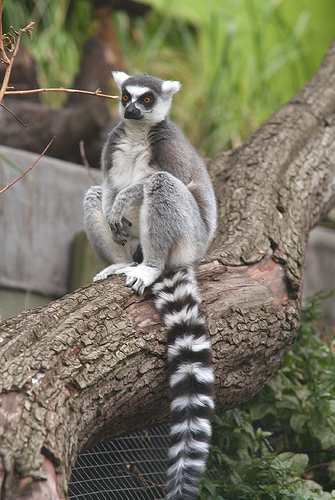cat: (82, 68, 217, 498)
